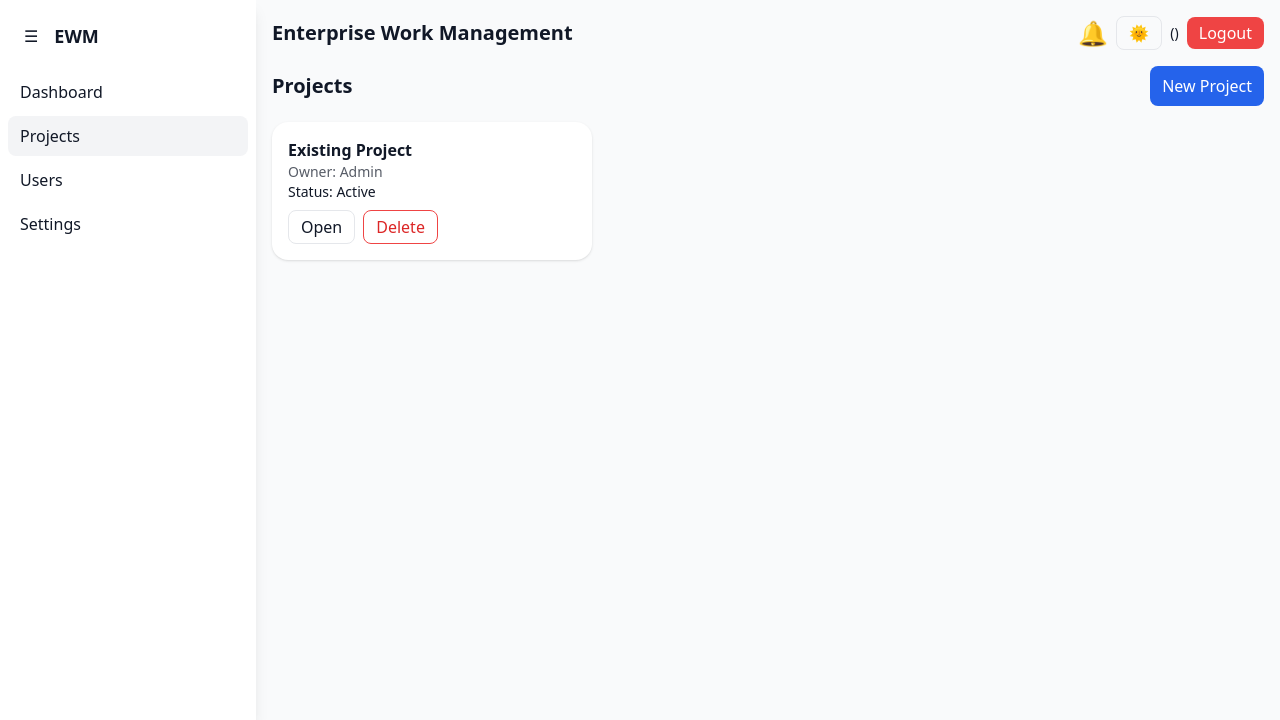
Test case: Admin full flow › admin can view projects and create a new project
Expected: the heading "Projects" is shown, [272, 72, 352, 100]
# Open modal
Step 1. Click the button "New Project" → (1207, 86), box [1150, 66, 1264, 106]
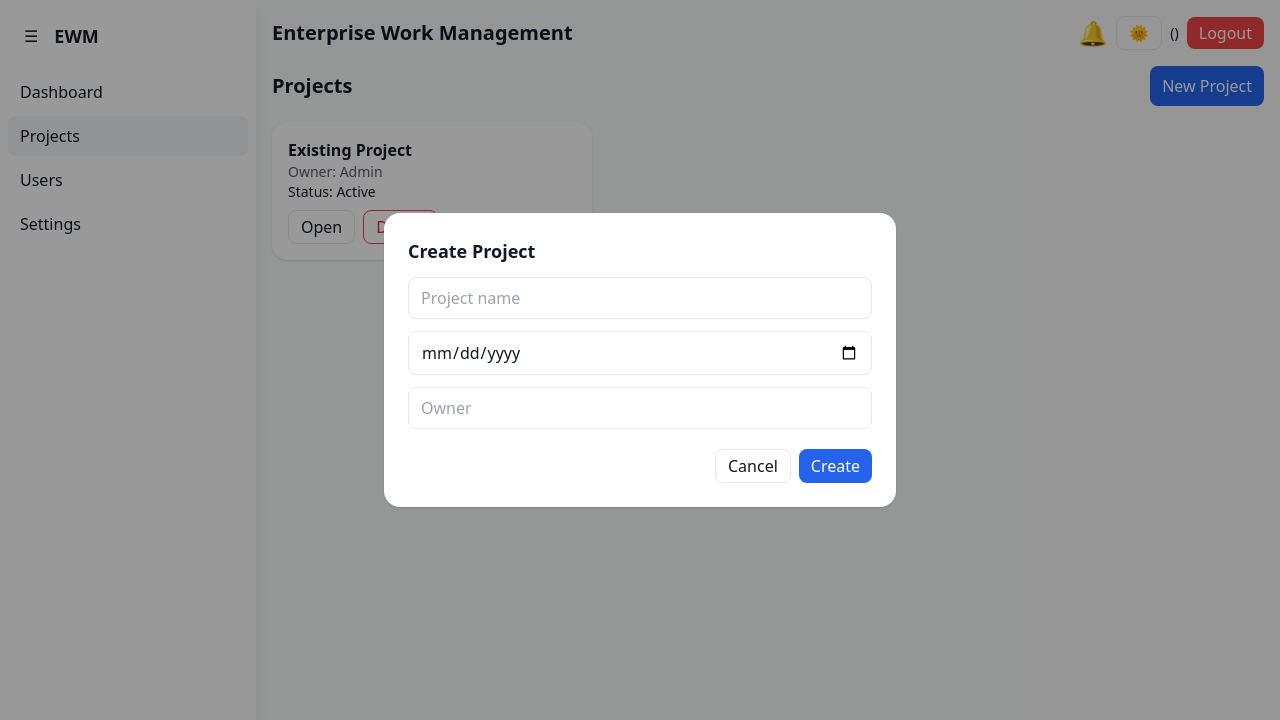
# Fill form
Step 2. Type "Test Project" into the field labelled "Project name" → (640, 298), box [408, 277, 872, 319]
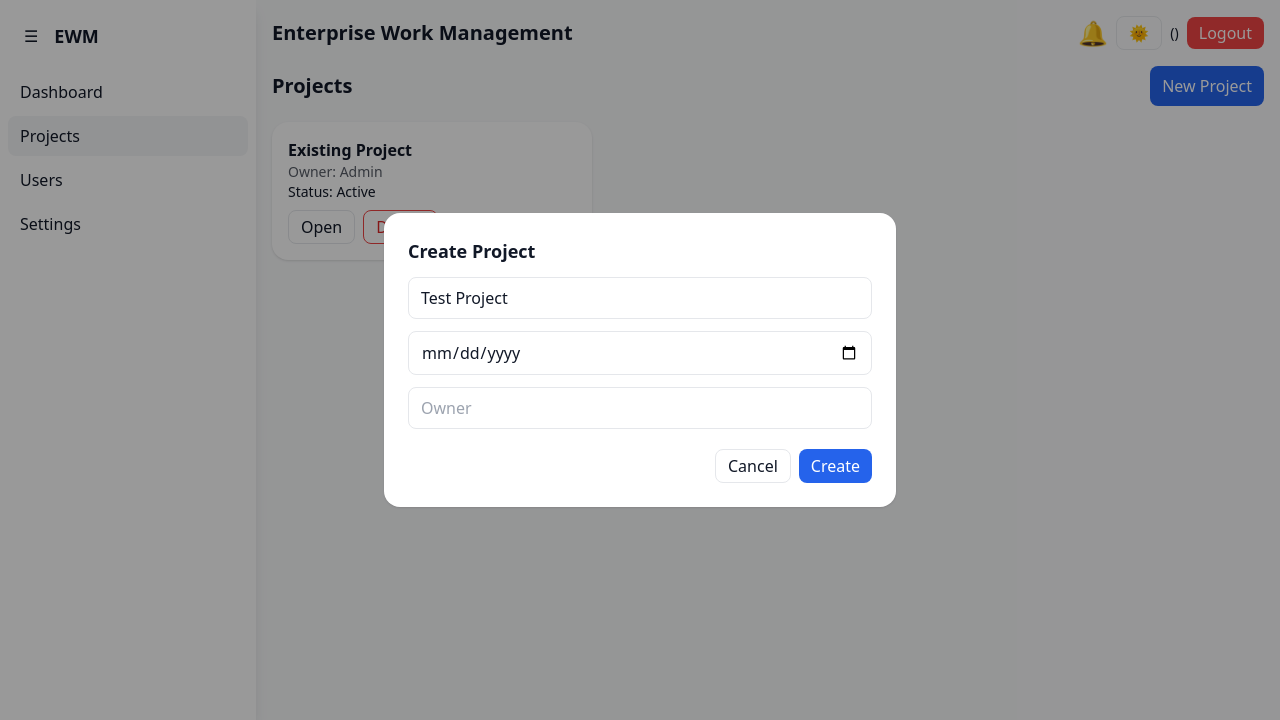
Step 3. Type "2025-12-31" into the date field named "Due Date" → (640, 353), box [408, 331, 872, 375]
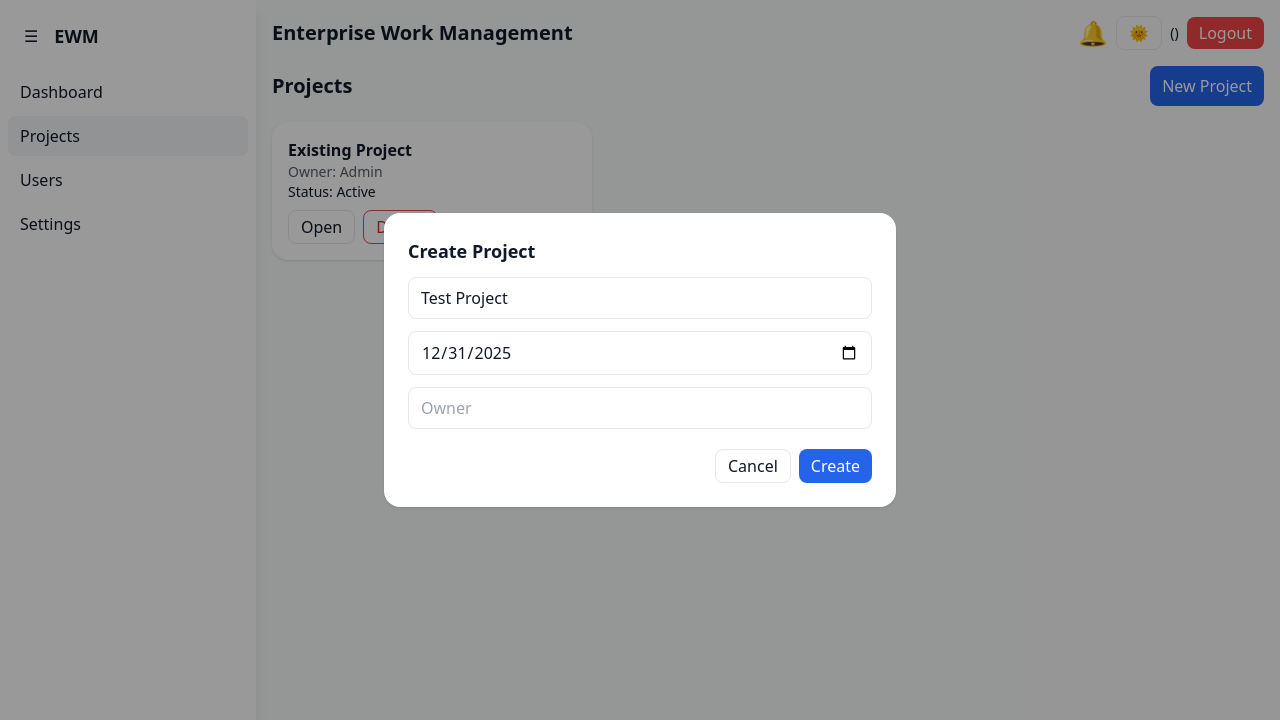
Step 4. Type "Admin" into the field named "Project Owner" → (640, 408), box [408, 387, 872, 429]
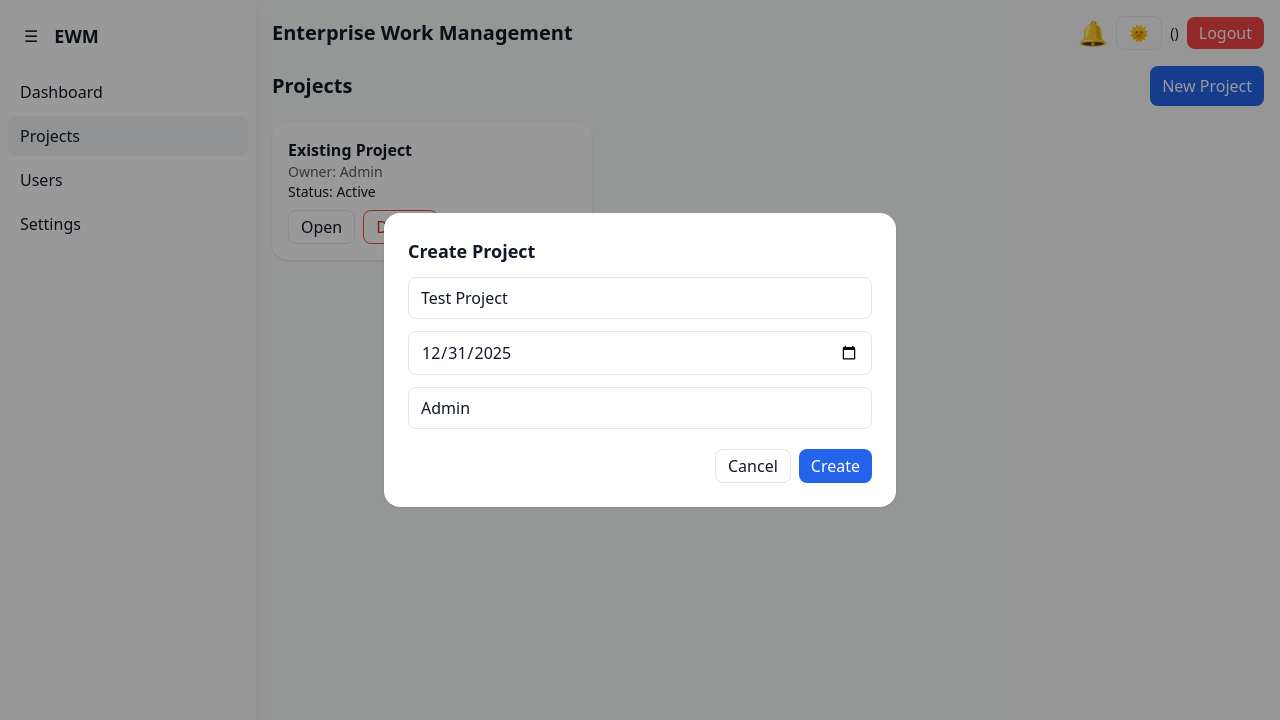
# Submit form
Step 5. Click the button "Create" → (835, 466), box [799, 449, 872, 483]
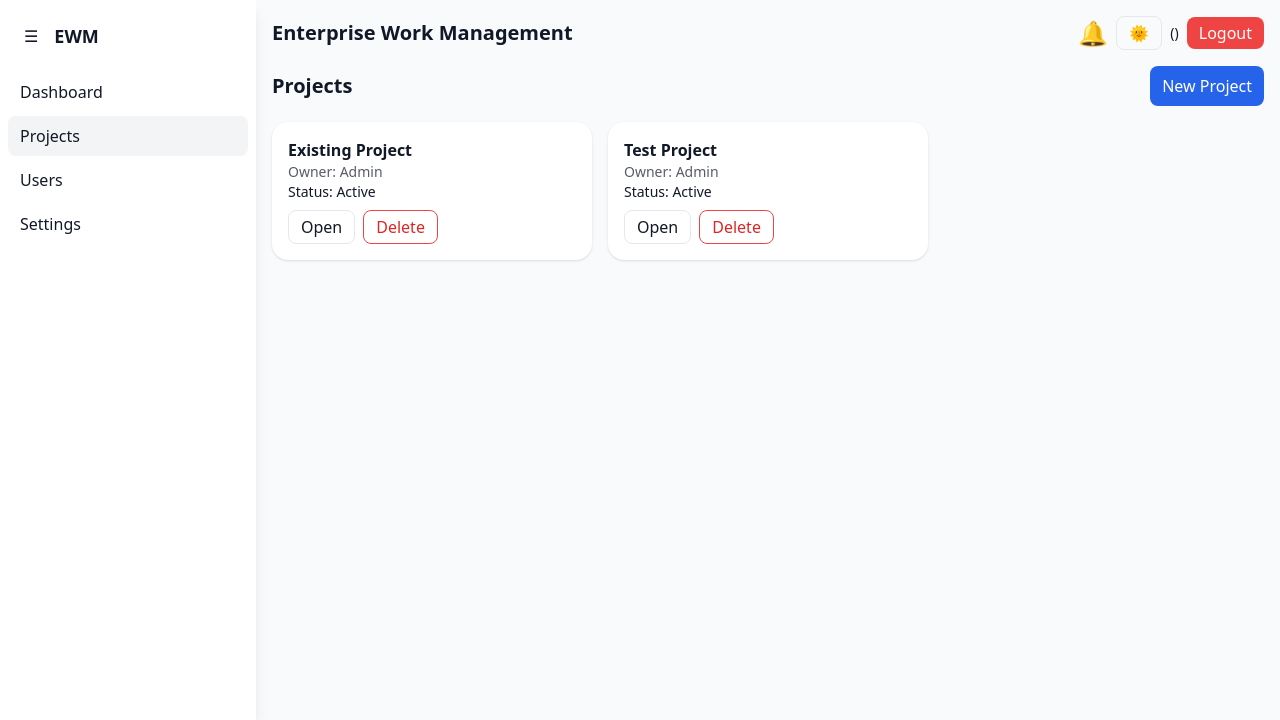
Expected: the text "Test Project" is shown, [624, 139, 717, 161]
